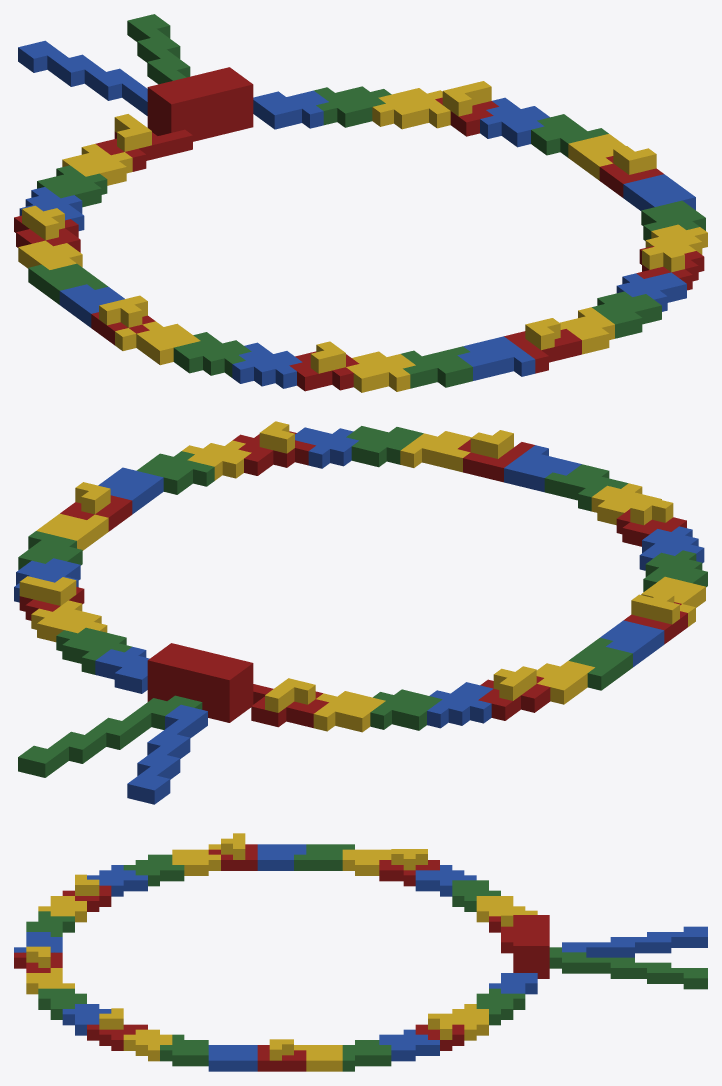
The model's file is woven_anklet.glb.
3 renders of one model, top to bottom at view 1: azimuth 30°, elevation 25°; view 2: azimuth 150°, elevation 25°; view 3: azimuth 270°, elevation 25°, orthographic. The views are drawn at different scales.
Parts seen in each view (by area): view 1: woven_anklet:compound; view 2: woven_anklet:compound; view 3: woven_anklet:compound.
Part boxes in pixels (x1=…): woven_anklet:compound: x1=14, y1=14, x2=707, y2=392; woven_anklet:compound: x1=14, y1=421, x2=707, y2=804; woven_anklet:compound: x1=14, y1=833, x2=707, y2=1071.
Bounding box in the file's own units: 0.084 × 0.006 × 0.114.
